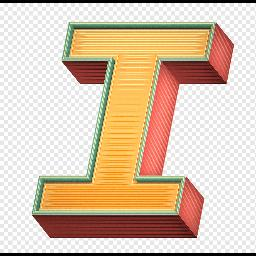i: (44, 3, 226, 253)
